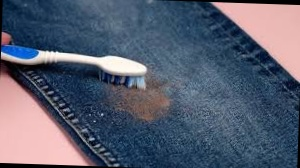earth: (122, 93, 165, 117)
